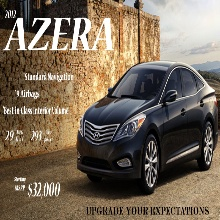no damage: (75, 61, 219, 192)
